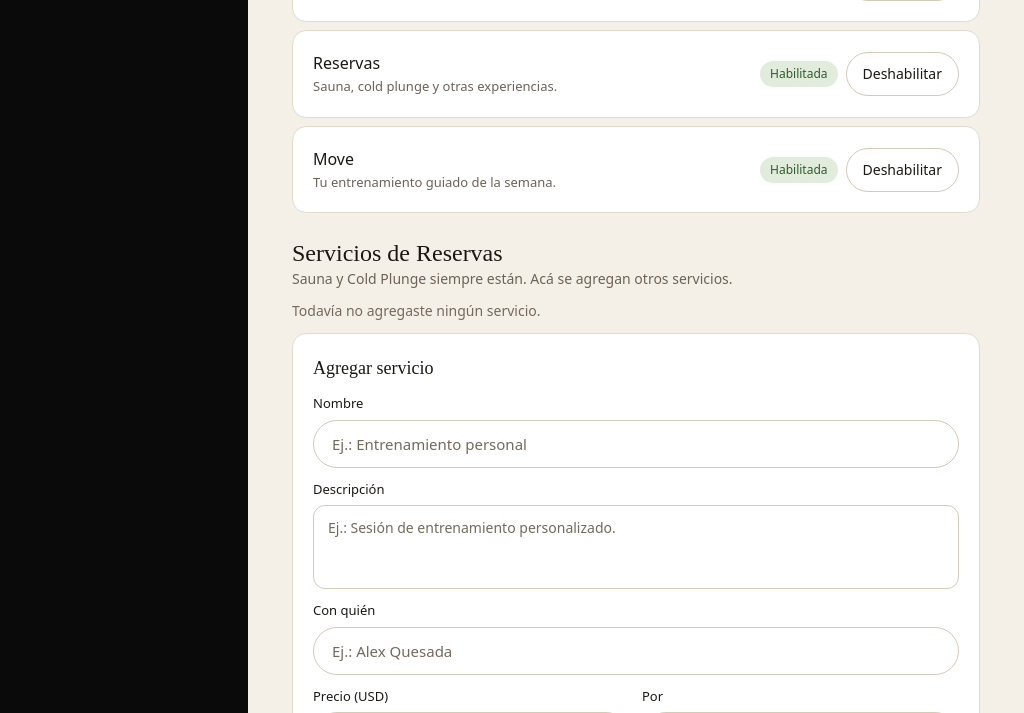
Scenario: servicios de Reservas › agregar un servicio nuevo lo suma a la lista
The width and height of the screenshot is (1024, 713).
(page scrolled)
Check: the text "Todavía no agregaste ningún servicio." is shown, box left=292, top=301, right=540, bottom=320
In the field labelled "Nombre": coordinates (636, 444) left=313, top=420, right=959, bottom=468, type "Masaje relajante"
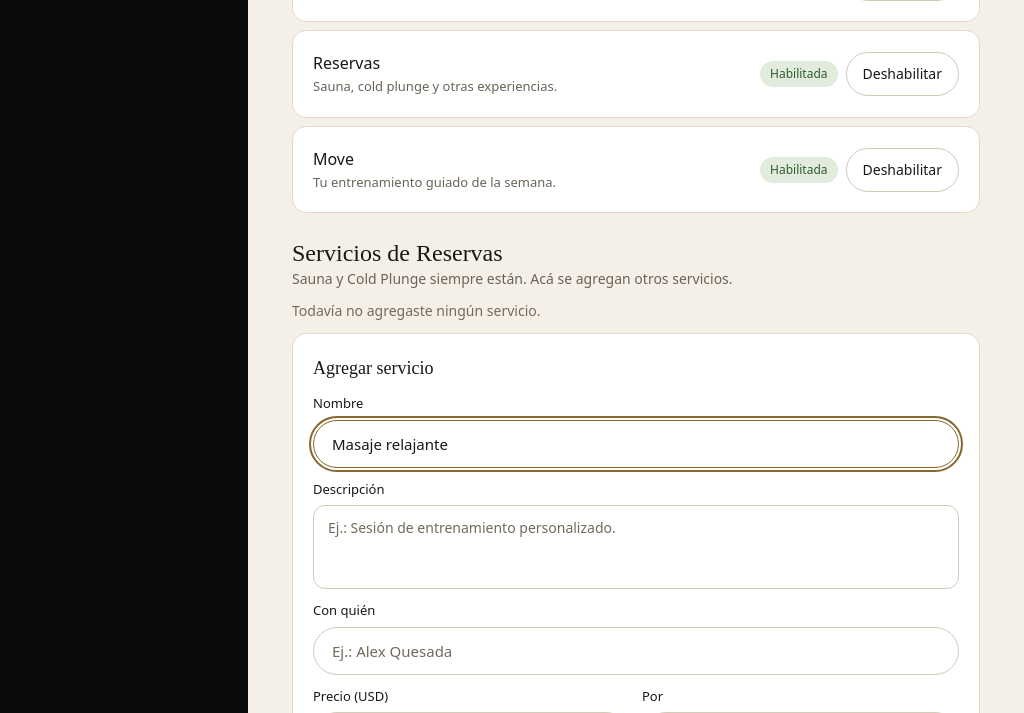
In the field labelled "Con quién": coordinates (636, 651) left=313, top=627, right=959, bottom=675, type "Studio Humaya"
(page scrolled)
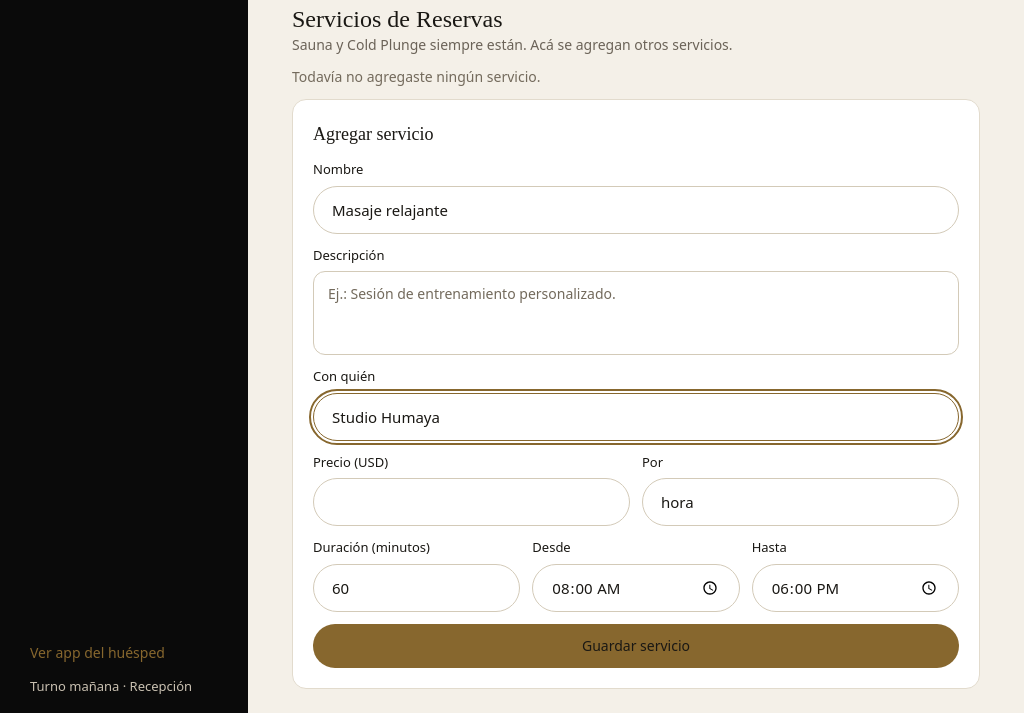
In the number field labelled "Precio (USD)": coordinates (472, 502) left=313, top=478, right=630, bottom=526, type "80"
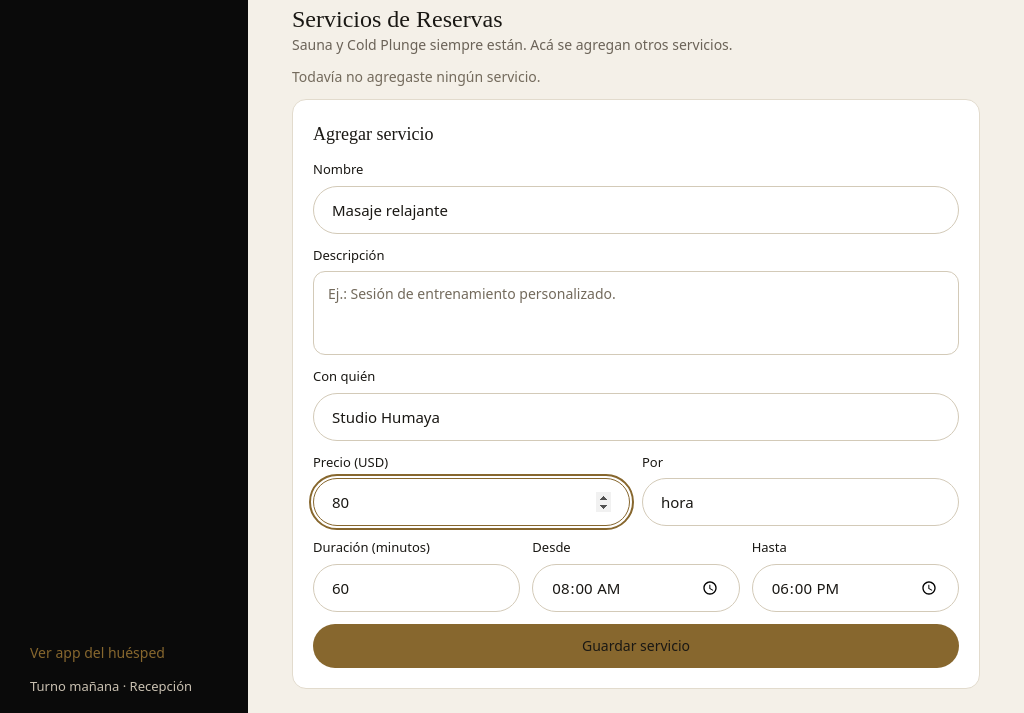
Click the button "Guardar servicio": coordinates (636, 646) left=313, top=624, right=959, bottom=668
(page scrolled)
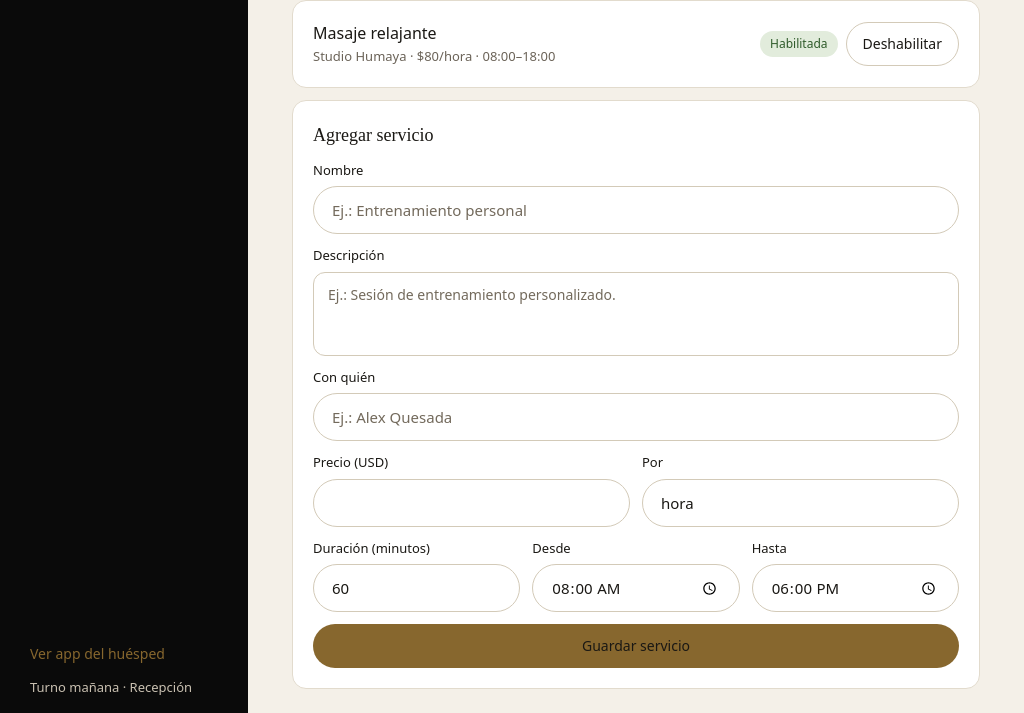
Check: the heading "Masaje relajante" is shown, box left=313, top=22, right=437, bottom=44
Check: the text "Studio Humaya · $80/hora · 08:00–18:00" is shown, box left=313, top=47, right=555, bottom=67
Check: the text "Todavía no agregaste ningún servicio." is gone
